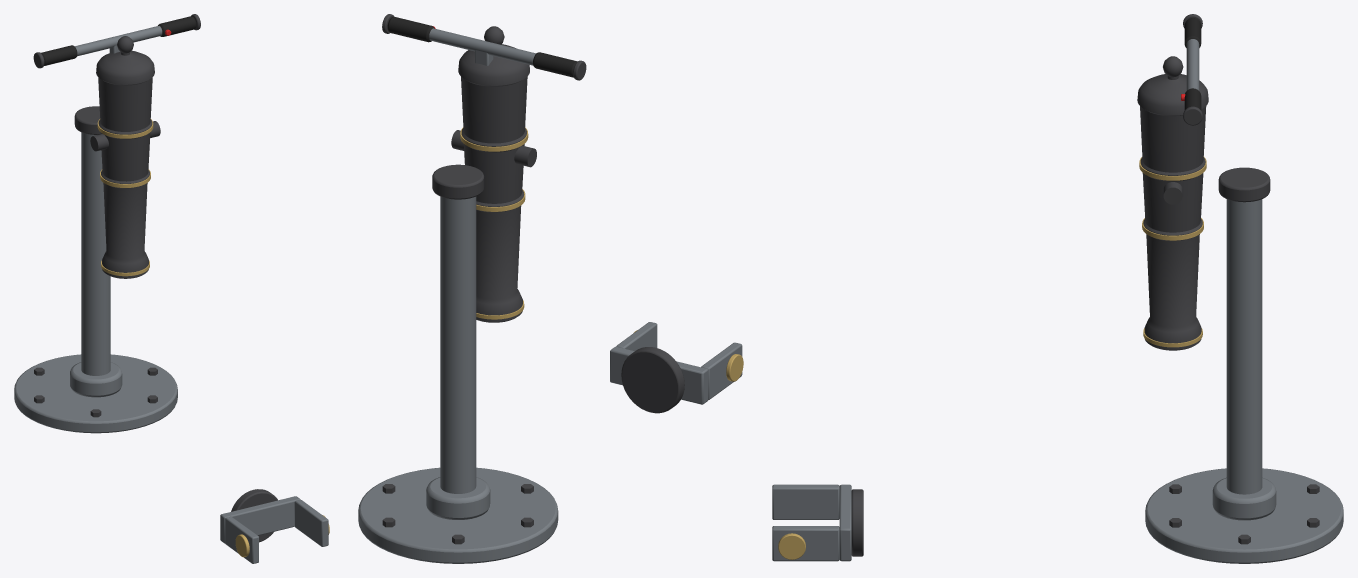
The model's file is HandCannon.fbx.
3 renders of one model, left to right at view 1: azimuth 30°, elevation 25°; view 2: azimuth 150°, elevation 25°; view 3: azimuth 270°, elevation 25°, orthographic. The views are drawn at different scales.
Parts seen in each view (by area): view 1: Barrel, Base_Plate, Base_Post, Yoke_Bridge, Base_Foot, Yoke_Arm_R, Handle_Bar, Yoke_Arm_L, Yoke_Turntable, Base_Collar, Grip_L, Grip_R (+1 smaller); view 2: Barrel, Base_Plate, Base_Post, Yoke_Turntable, Base_Foot, Base_Collar, Yoke_Bridge, Handle_Bar, Yoke_Arm_L, Grip_R, Grip_L, Yoke_Arm_R (+1 smaller); view 3: Barrel, Base_Plate, Base_Post, Yoke_Arm_L, Base_Foot, Yoke_Arm_R, Base_Collar, Yoke_Bridge, Yoke_Turntable, Handle_Bar.
Boxes of the visible parts, x1=… form: Barrel: x1=96, y1=36, x2=154, y2=278; Base_Plate: x1=14, y1=354, x2=177, y2=433; Base_Post: x1=81, y1=132, x2=110, y2=375; Yoke_Bridge: x1=220, y1=496, x2=300, y2=543; Base_Foot: x1=70, y1=362, x2=122, y2=397; Yoke_Arm_R: x1=294, y1=499, x2=328, y2=546; Handle_Bar: x1=75, y1=26, x2=162, y2=56; Yoke_Arm_L: x1=225, y1=516, x2=258, y2=563; Yoke_Turntable: x1=231, y1=489, x2=277, y2=542; Base_Collar: x1=74, y1=106, x2=100, y2=134; Grip_L: x1=41, y1=45, x2=77, y2=65; Grip_R: x1=158, y1=16, x2=196, y2=36; Barrel: x1=458, y1=26, x2=529, y2=322; Base_Plate: x1=358, y1=467, x2=558, y2=563; Base_Post: x1=440, y1=196, x2=476, y2=493; Yoke_Turntable: x1=621, y1=347, x2=684, y2=413; Base_Foot: x1=426, y1=477, x2=490, y2=519; Base_Collar: x1=432, y1=164, x2=484, y2=199; Yoke_Bridge: x1=610, y1=346, x2=708, y2=404; Handle_Bar: x1=429, y1=28, x2=535, y2=65; Yoke_Arm_L: x1=701, y1=342, x2=742, y2=400; Grip_R: x1=387, y1=16, x2=434, y2=42; Grip_L: x1=533, y1=52, x2=577, y2=77; Yoke_Arm_R: x1=616, y1=322, x2=657, y2=350; Barrel: x1=1137, y1=56, x2=1208, y2=350; Base_Plate: x1=1145, y1=468, x2=1343, y2=563; Base_Post: x1=1226, y1=199, x2=1262, y2=494; Yoke_Arm_L: x1=772, y1=484, x2=839, y2=519; Base_Foot: x1=1212, y1=477, x2=1276, y2=520; Yoke_Arm_R: x1=772, y1=526, x2=839, y2=561; Base_Collar: x1=1218, y1=167, x2=1270, y2=202; Yoke_Bridge: x1=839, y1=484, x2=851, y2=561; Yoke_Turntable: x1=851, y1=489, x2=863, y2=556; Handle_Bar: x1=1186, y1=39, x2=1199, y2=90.
Bounding box in the file's own units: 0.564 × 1.38 × 1.44.
